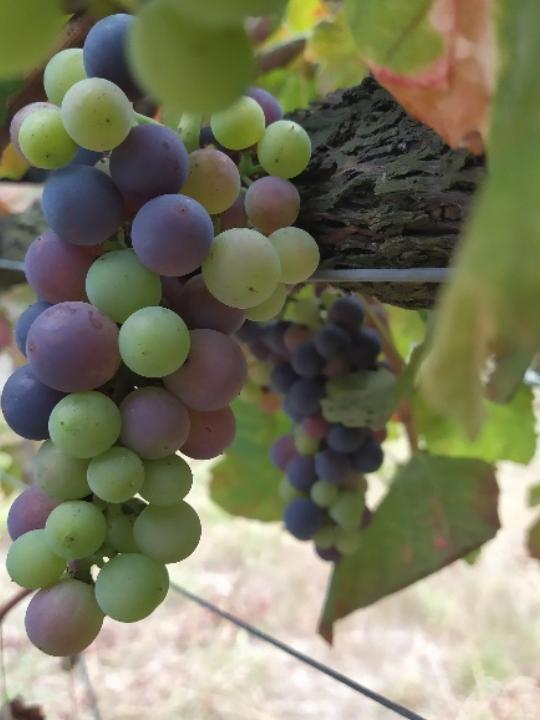grape: (0, 7, 325, 659)
